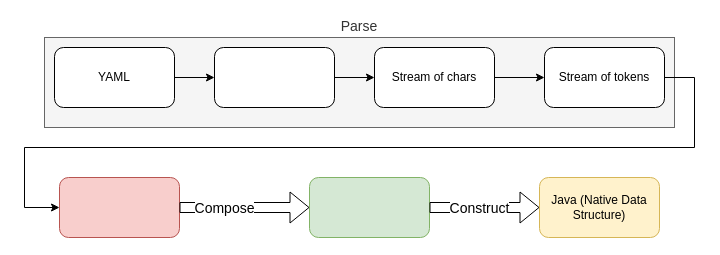
The diagram is 720 pixels wide and 255 high, and some of its shapes have lost their labels. Here are the shapes that lost their labels. From the top down, the centre of each, then its label:
At (274,77): "Stream of bytes".
At (119,207): "Stream of events".
At (369,207): "Node graph".
